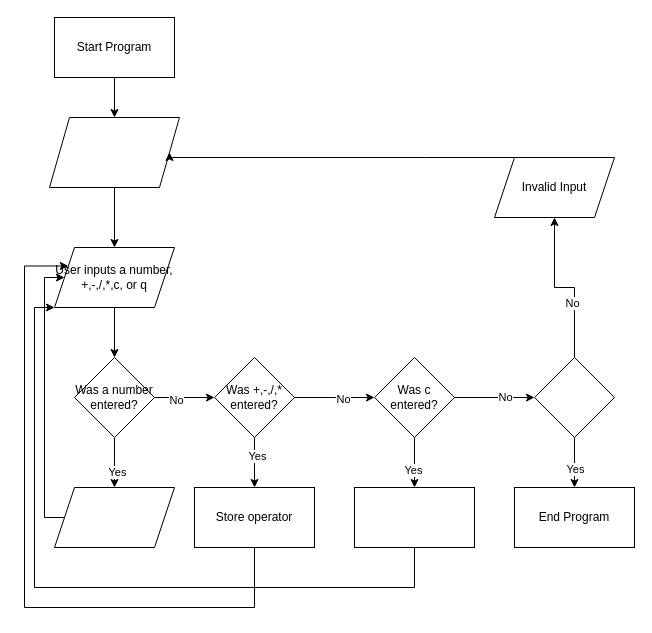
This 652x633 diagram has some shape labels left out. Here are the shapes that lost their labels. From the top down, the centre of each, then its label:
At [114,152]: "Enter a number or operator(+,-,/,*,c,q):".
At [574,397]: "Was q entered?".
At [114,517]: "Print/store new calculated value".
At [414,517]: "Set all numbers to zero and remove all the operators".
